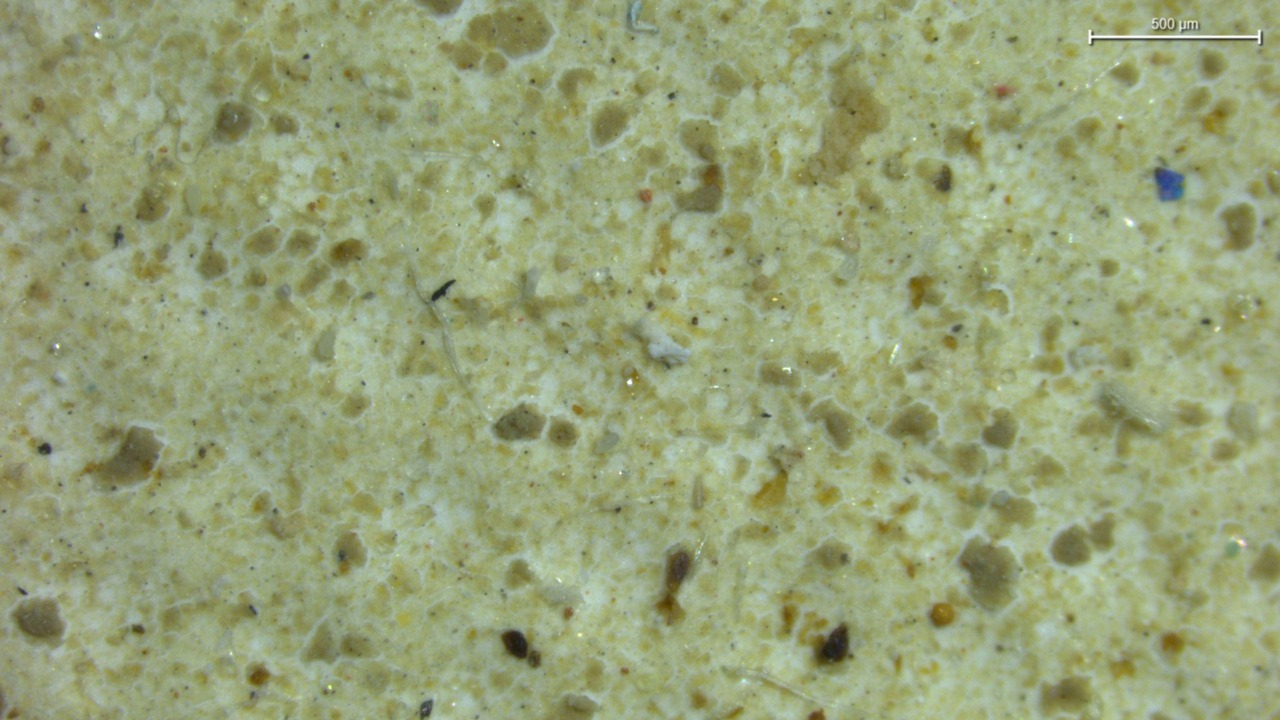microplastic_fragment: (632, 319, 690, 367), (1154, 167, 1184, 201)
